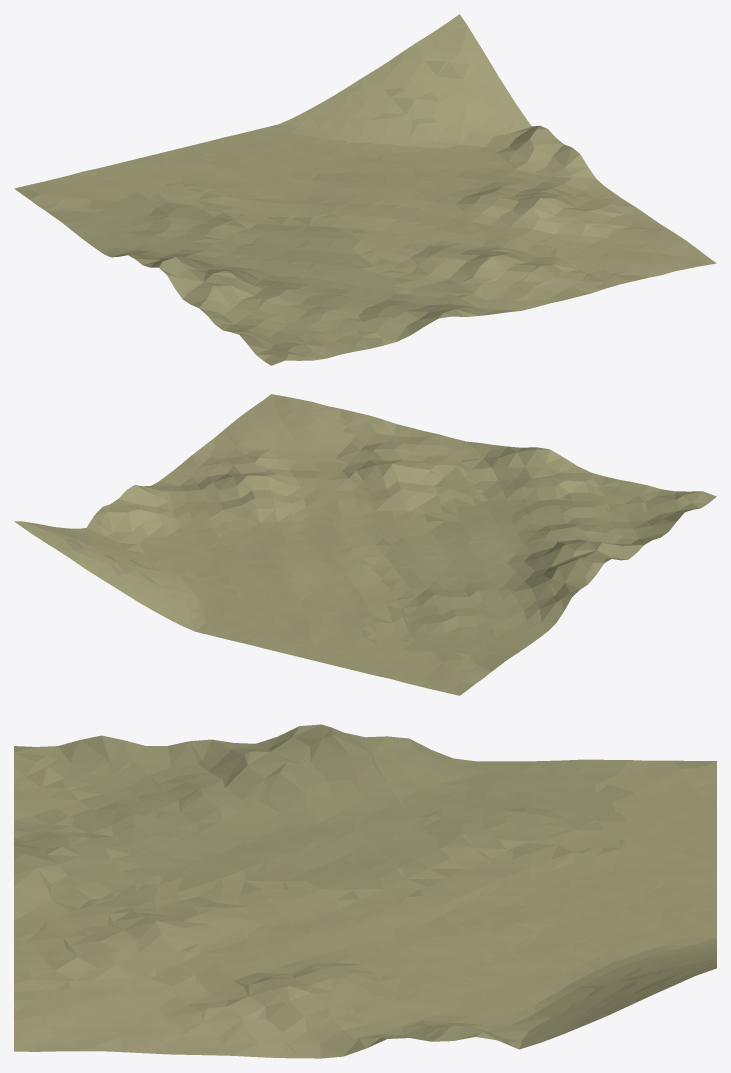
File: Ground_4_-3.glb
3 renders of one model, top to bottom at view 1: azimuth 30°, elevation 25°; view 2: azimuth 150°, elevation 25°; view 3: azimuth 270°, elevation 25°, orthographic. The views are drawn at different scales.
Parts seen in each view (by area): view 1: Ground_4_-3; view 2: Ground_4_-3; view 3: Ground_4_-3.
Boxes of the visible parts, bbox=[...] form: Ground_4_-3: bbox=[14, 14, 716, 365]; Ground_4_-3: bbox=[14, 394, 716, 695]; Ground_4_-3: bbox=[14, 724, 716, 1058].
Bounding box in the file's own units: 768 × 109 × 768.
